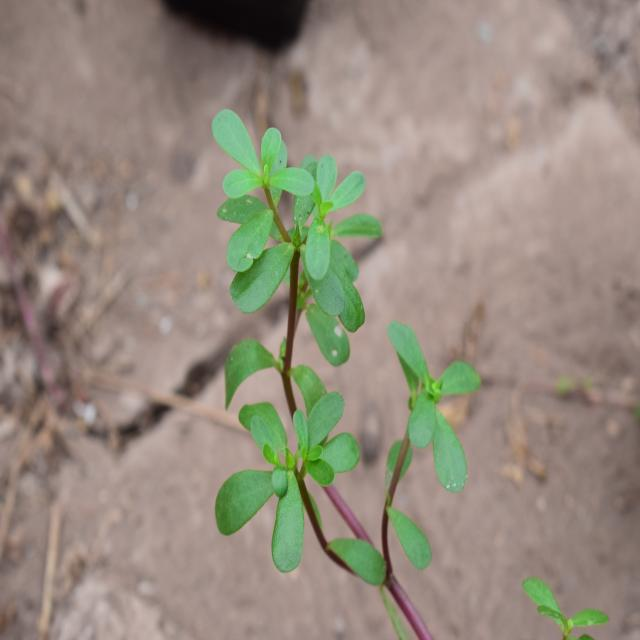purslane: (190, 105, 510, 569)
